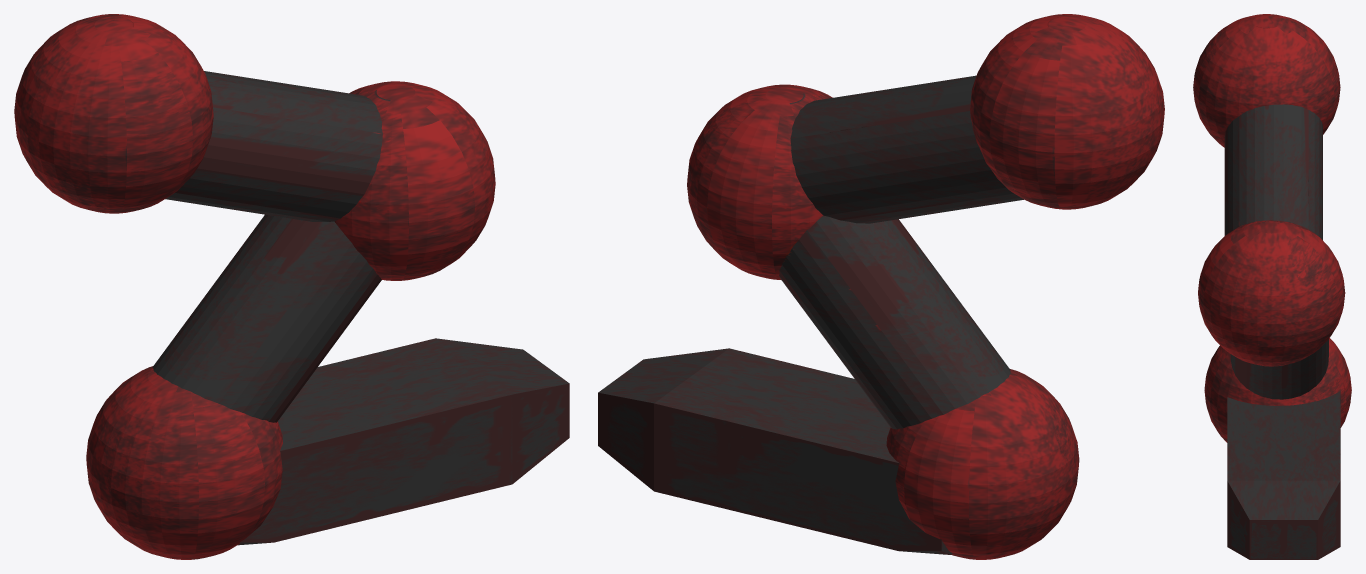
Rendered from Leftleg.obj.
3 renders of one model, left to right at view 1: azimuth 30°, elevation 25°; view 2: azimuth 150°, elevation 25°; view 3: azimuth 270°, elevation 25°, orthographic. The views are drawn at different scales.
Visible parts, largest first — view 1: 足.001_立方体.011; view 2: 足.001_立方体.011; view 3: 足.001_立方体.011.
Part boxes in pixels (<box>): 足.001_立方体.011: <box>14,14,569,559</box>; 足.001_立方体.011: <box>598,14,1164,559</box>; 足.001_立方体.011: <box>1193,14,1351,559</box>.
Size of the model in its own units: 18.39 by 18.3 by 6.46.
1 material, 1 textured.
